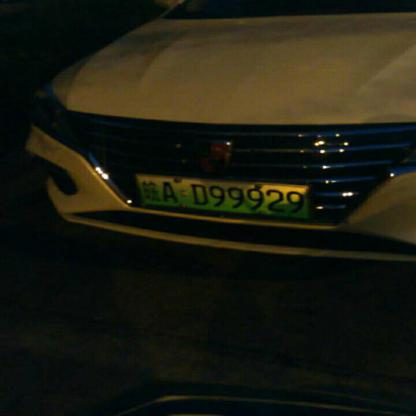lp: (138, 174, 310, 218)
